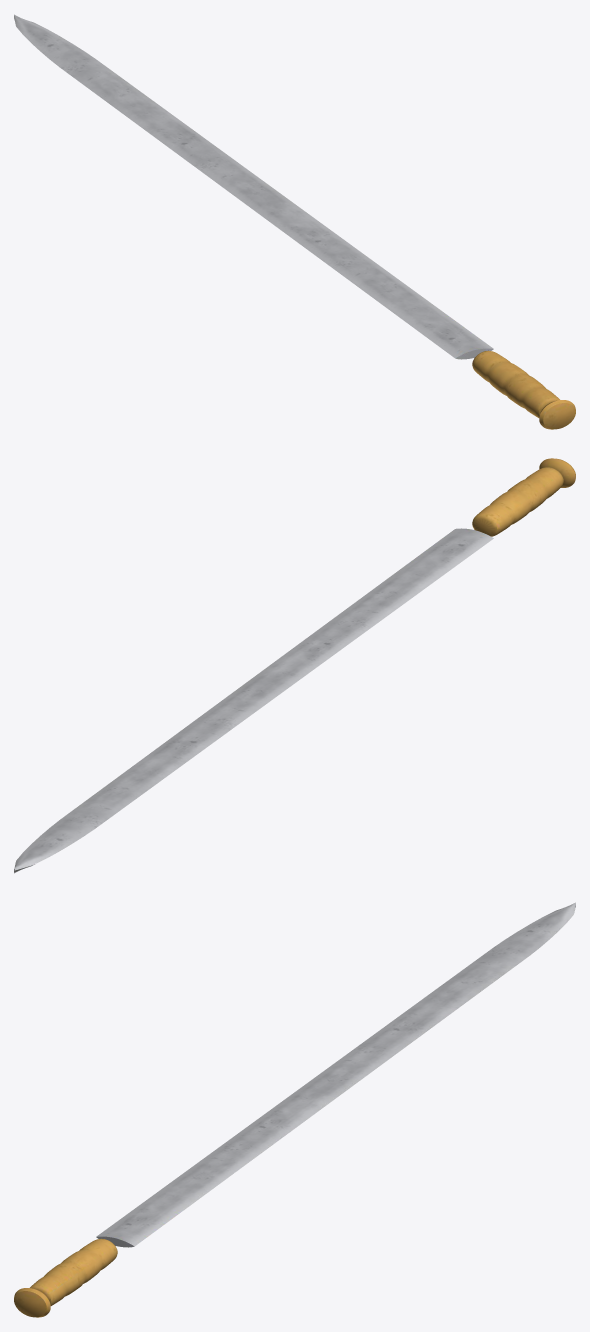
File: sasanian_sword.glb
The picture shows the model from 3 angles, top to bottom: view 1: azimuth 30°, elevation 25°; view 2: azimuth 150°, elevation 25°; view 3: azimuth 330°, elevation 25°; orthographic projection.
Parts seen in each view (by area): view 1: sasanian_sword; view 2: sasanian_sword; view 3: sasanian_sword.
Part boxes in pixels (bbox=[...]): sasanian_sword: bbox=[14, 14, 575, 429]; sasanian_sword: bbox=[14, 458, 575, 873]; sasanian_sword: bbox=[14, 902, 575, 1317].
Size of the model in its own units: 0.042 by 0.0292 by 1.02.
Materials: 1 (1 with a texture image).
